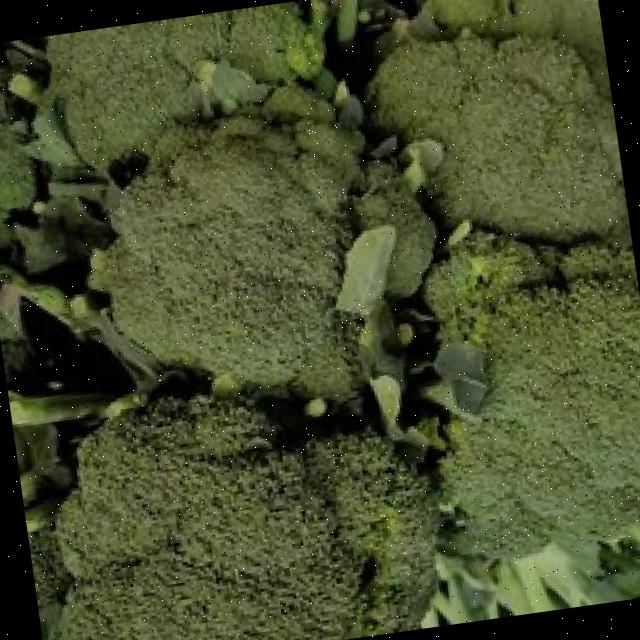Broccoli: (58, 395, 433, 640), (59, 395, 432, 640), (108, 105, 357, 396), (108, 113, 357, 396), (425, 231, 640, 558), (425, 231, 640, 558), (370, 32, 631, 241), (370, 32, 631, 240), (47, 1, 322, 170), (47, 1, 322, 170)
